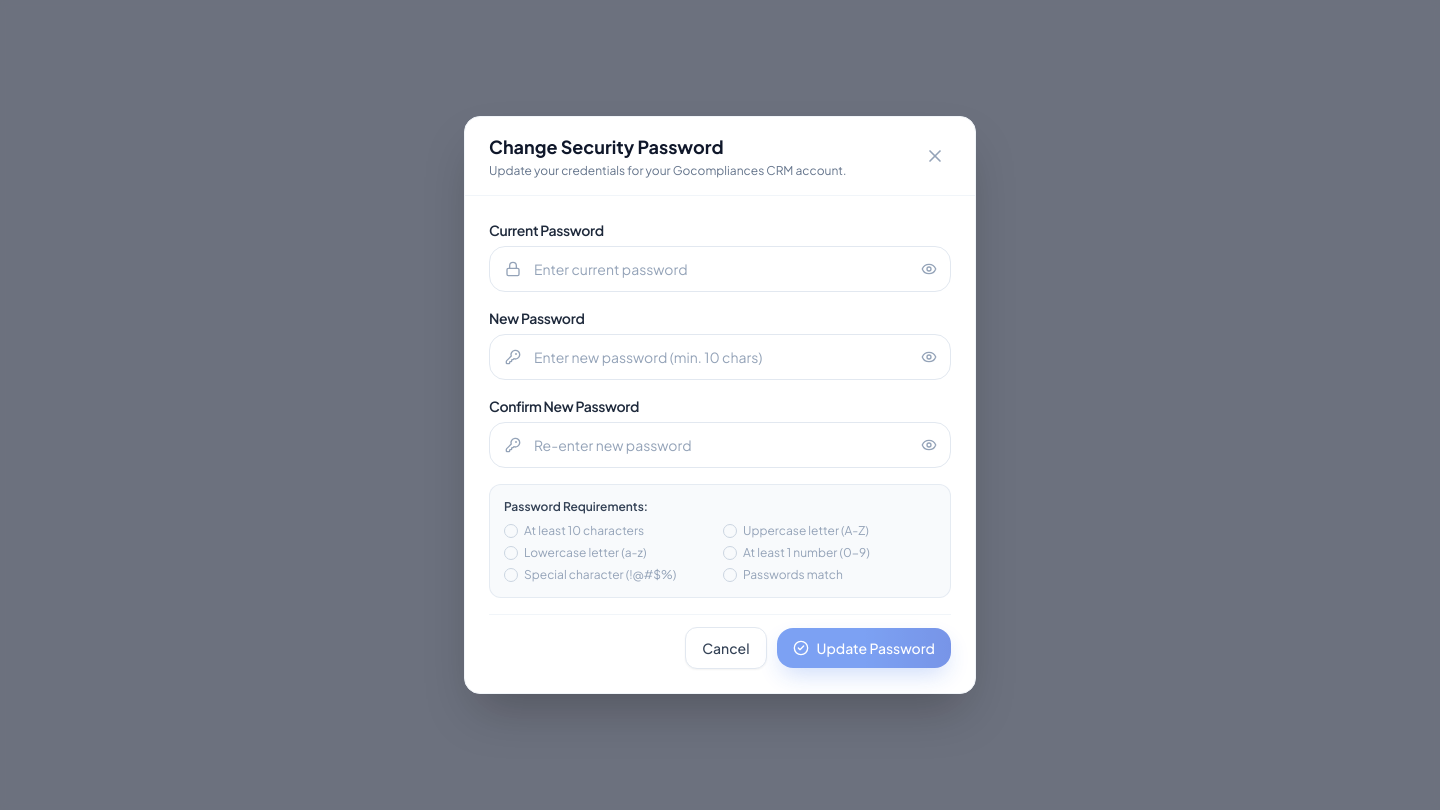
Test: ChangePasswordModal Component › displays API error message when password update fails on backend
The image size is (1440, 810).
Type "WrongPass123!" into the password field labelled "Current Password" at [720, 269], box [489,246,951,292]
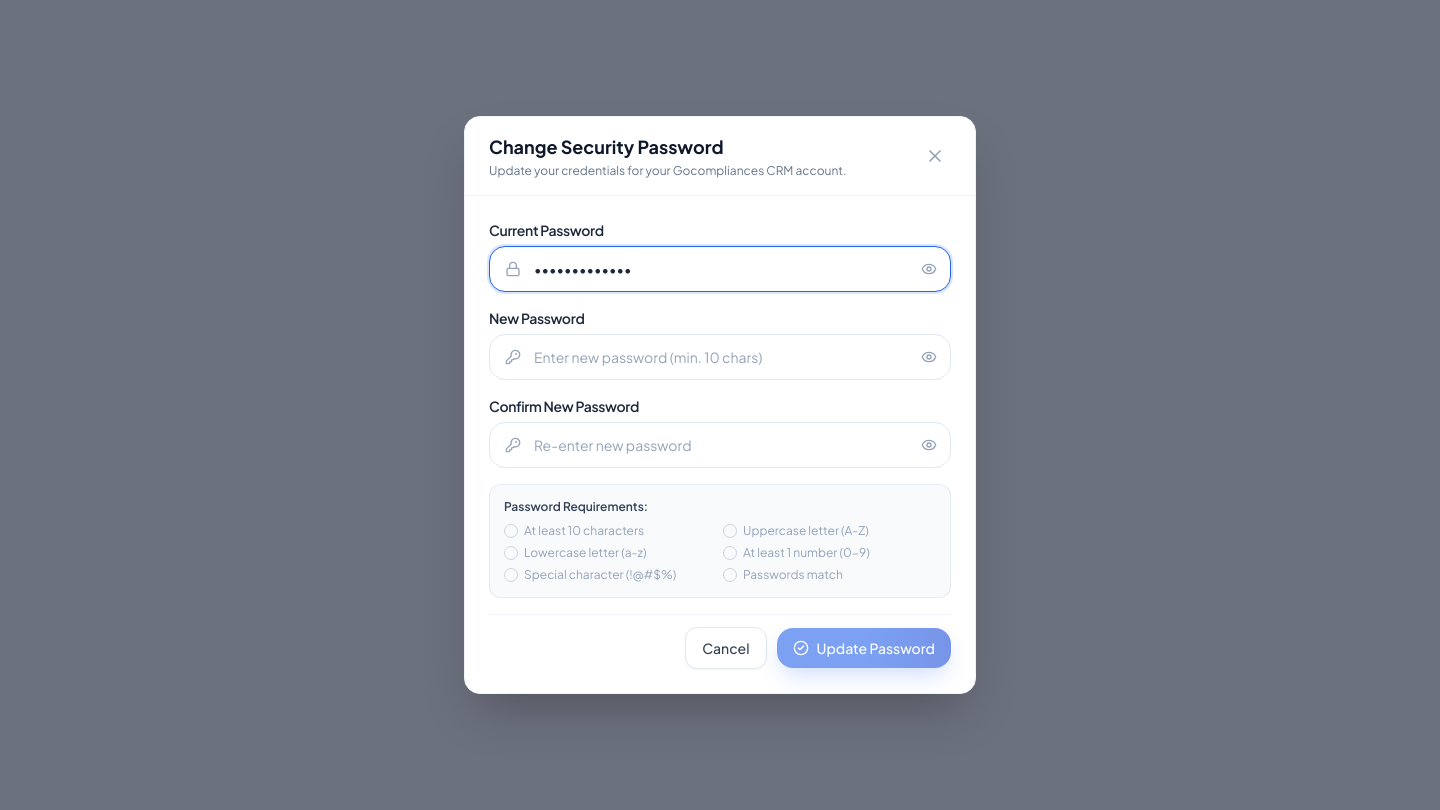
Type "NewSecurePass@2026" into the password field labelled "New Password" at [720, 357], box [489,334,951,380]
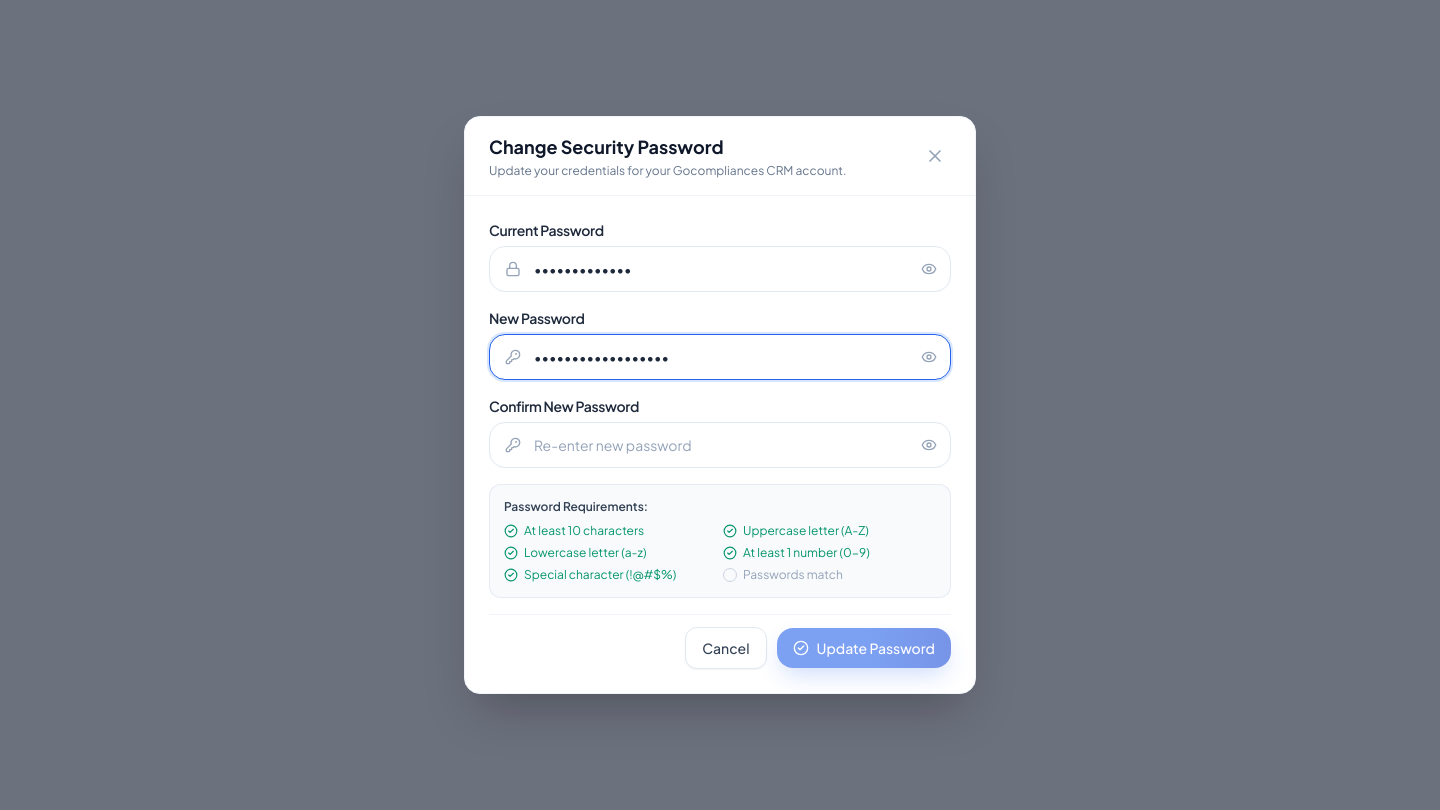
Type "NewSecurePass@2026" into the password field labelled "Confirm New Password" at [720, 445], box [489,422,951,468]
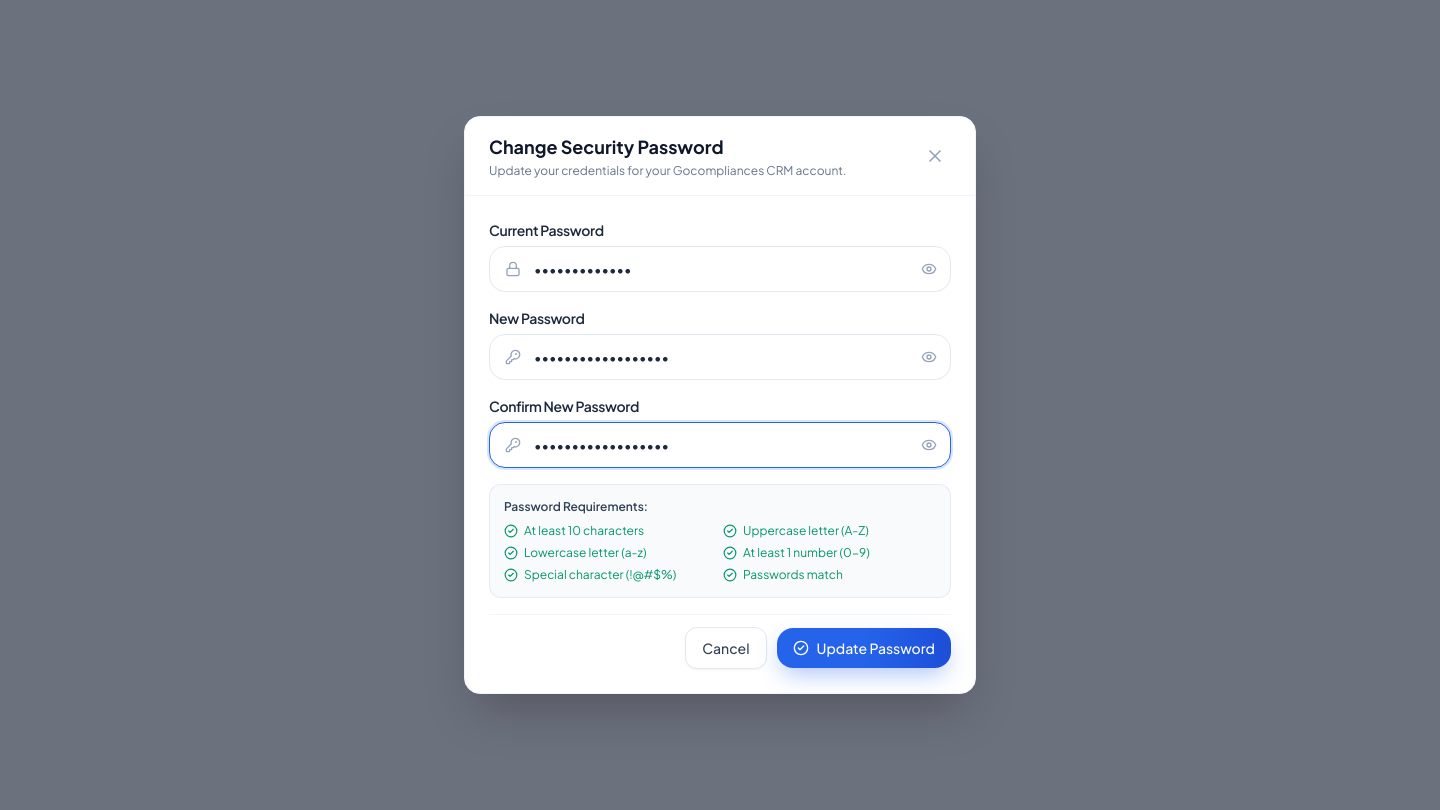
Click the button "Update Password" at [864, 648], box [776,628,951,668]
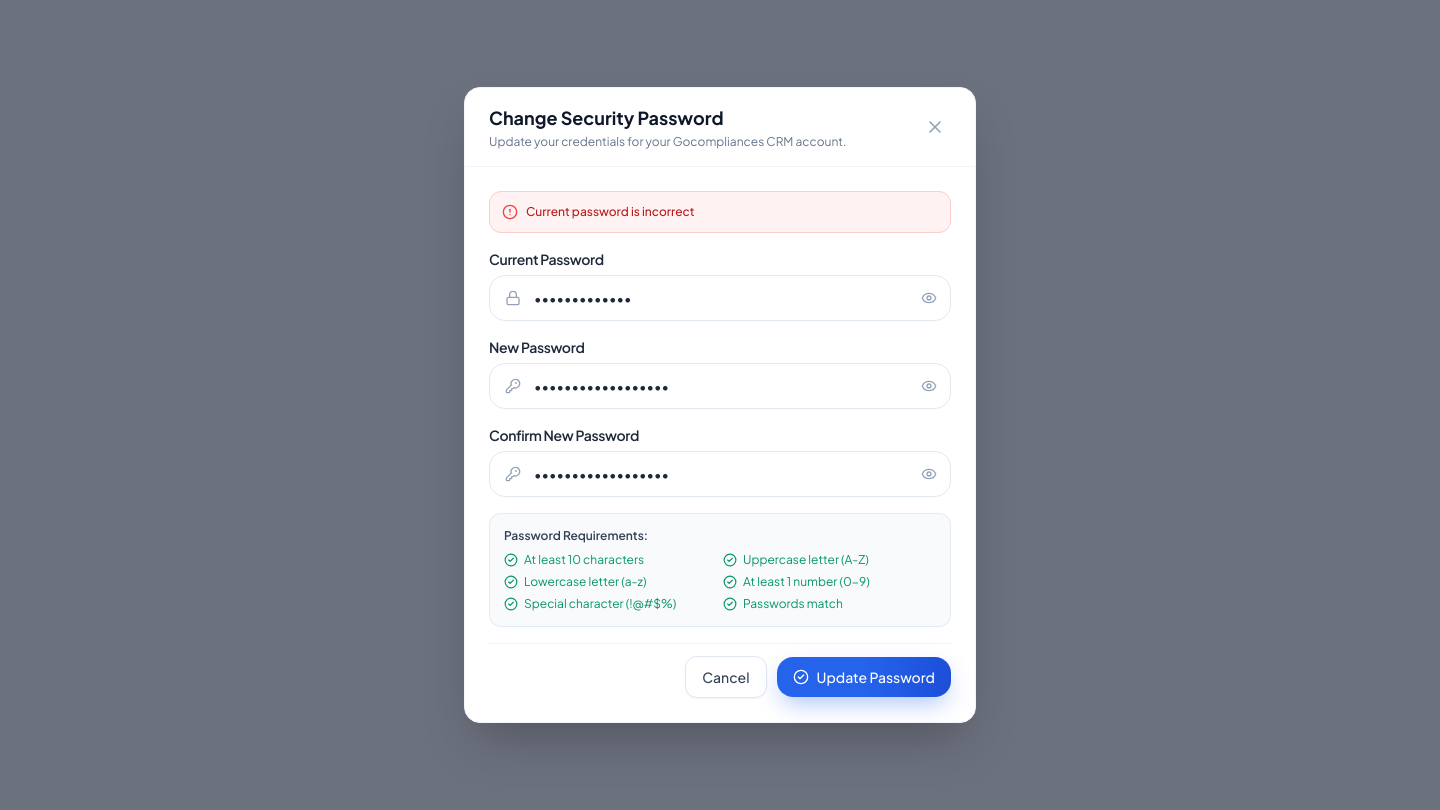
Expected: the text "Current password is incorrect" is shown, [526,204,695,220]
